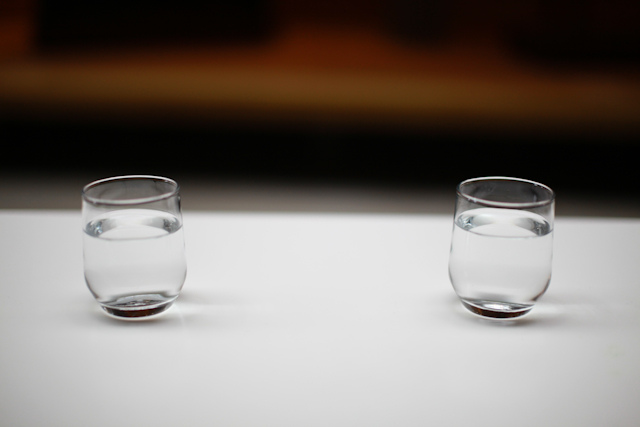glass of water: (74, 163, 192, 325), (453, 166, 562, 329)
